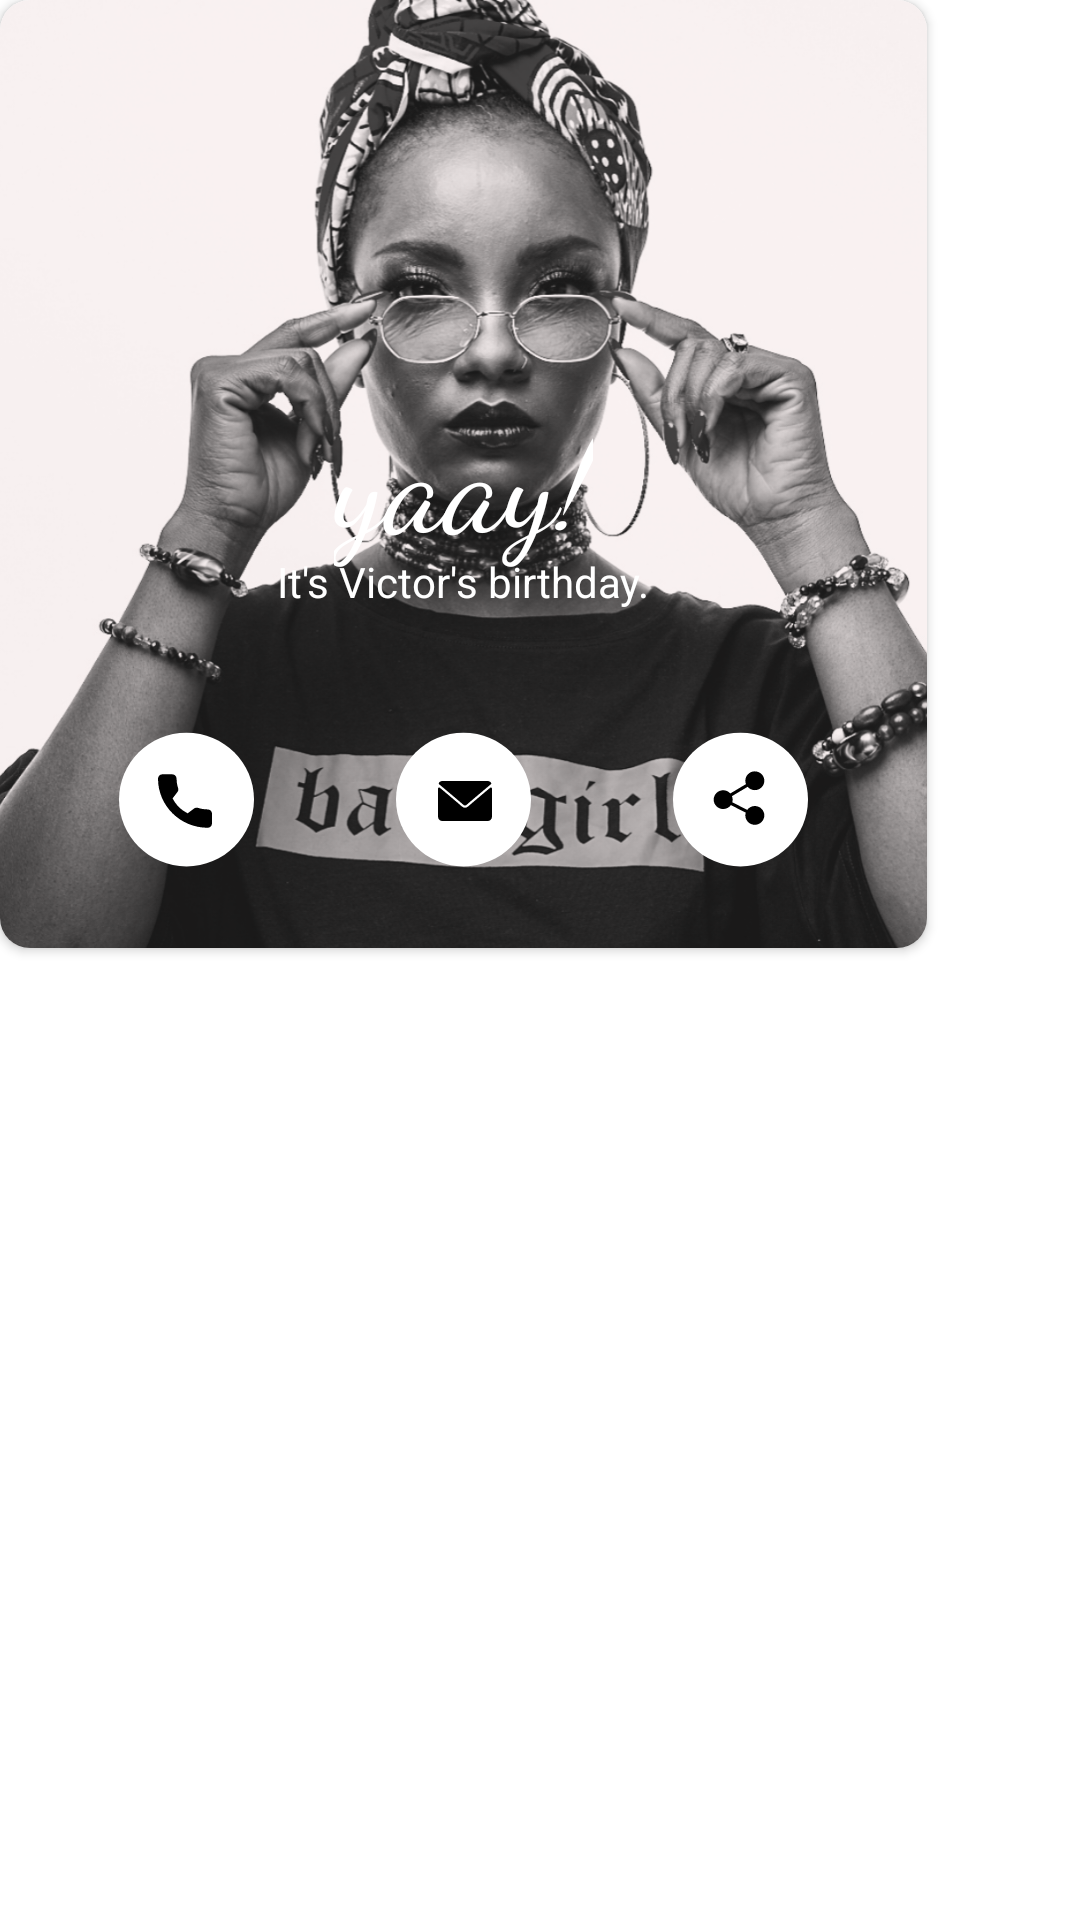

Point at icon controls on the screen. Image size 1080*1920, points as [x,y].
call: [186,799]
mail: [463,799]
share: [740,799]
